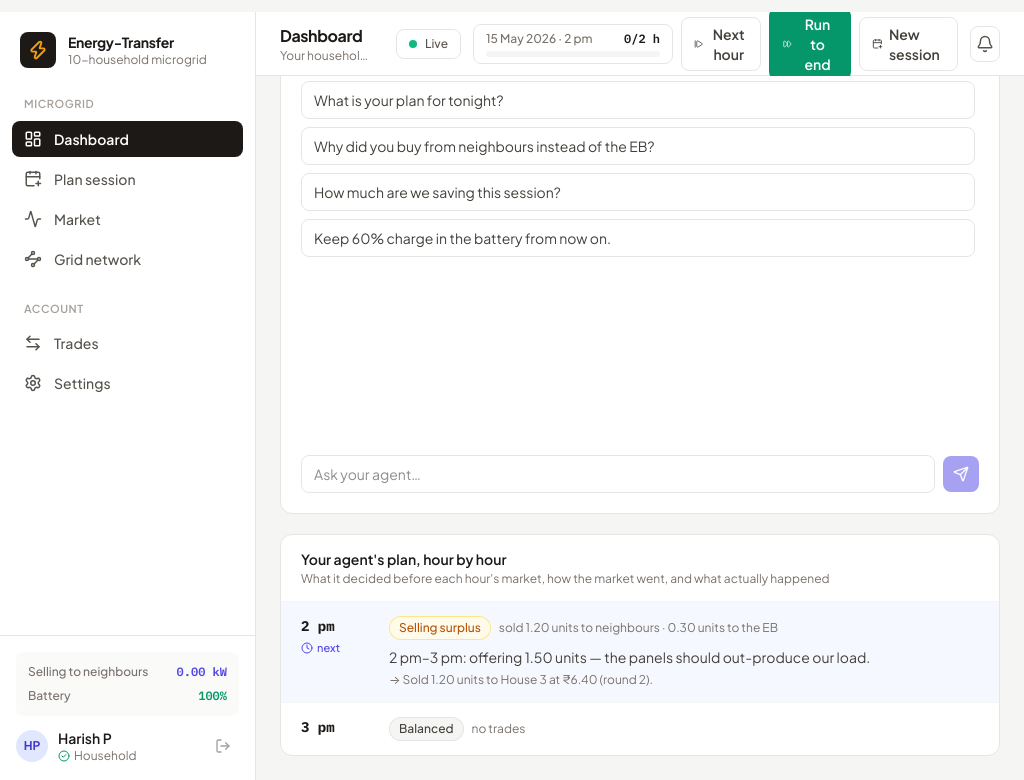
Test: agent chat › renders the model’s bold text and bullets, and names the model that answered
This screenshot has width=1024, height=780.
(page scrolled)
Type "How much did I save?" into the field named "Message your agent" at (618, 474), box [301,454,935,492]
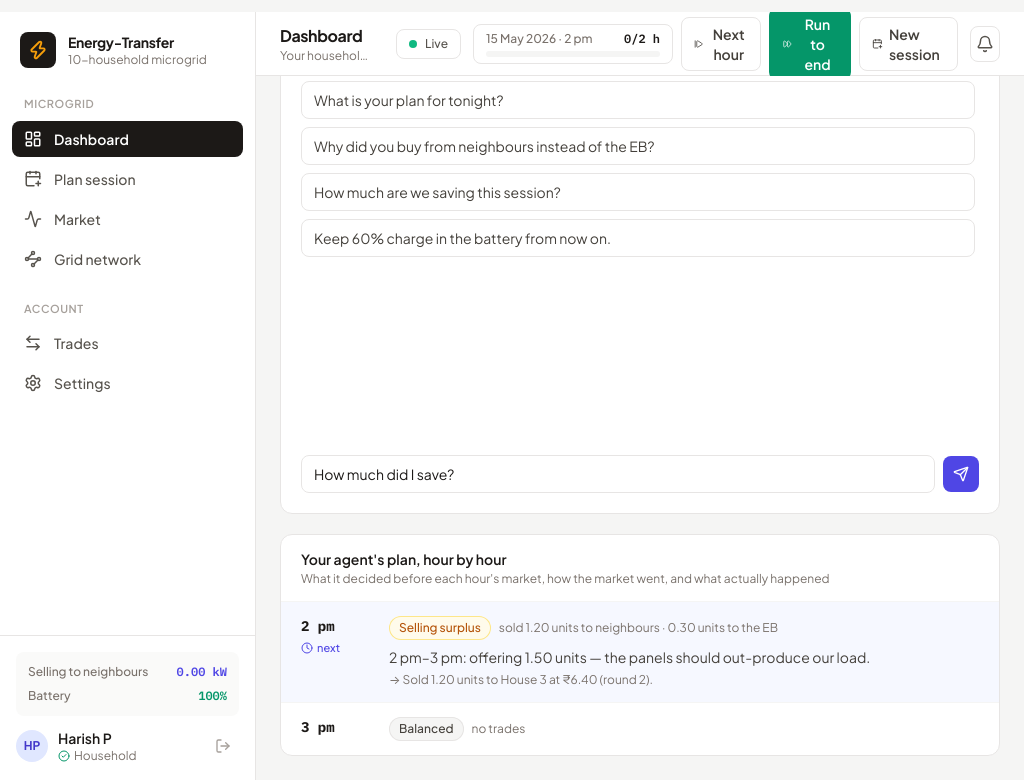
Click the button named "Send" at (961, 474), box [943,456,979,492]
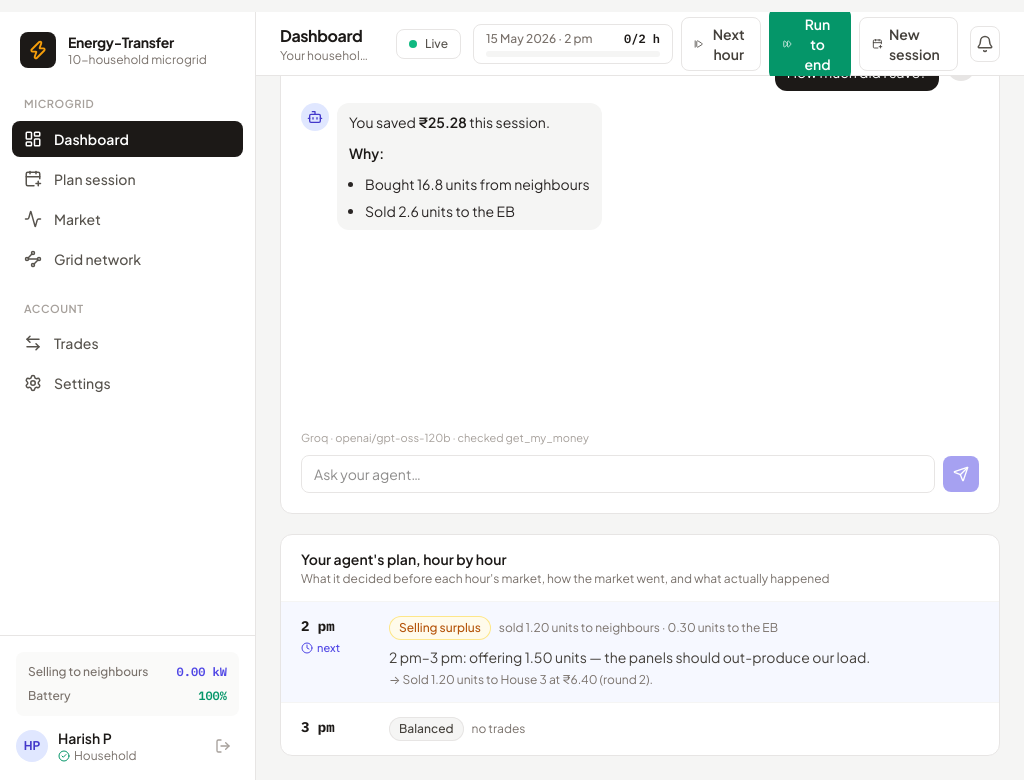
Expected: the text "Bought 16.8 units from neighbours" is shown, [365,175,590,193]
Expected: the text "Groq · openai/gpt-oss-120b · checked get_my_money" is shown, [301,431,589,444]
